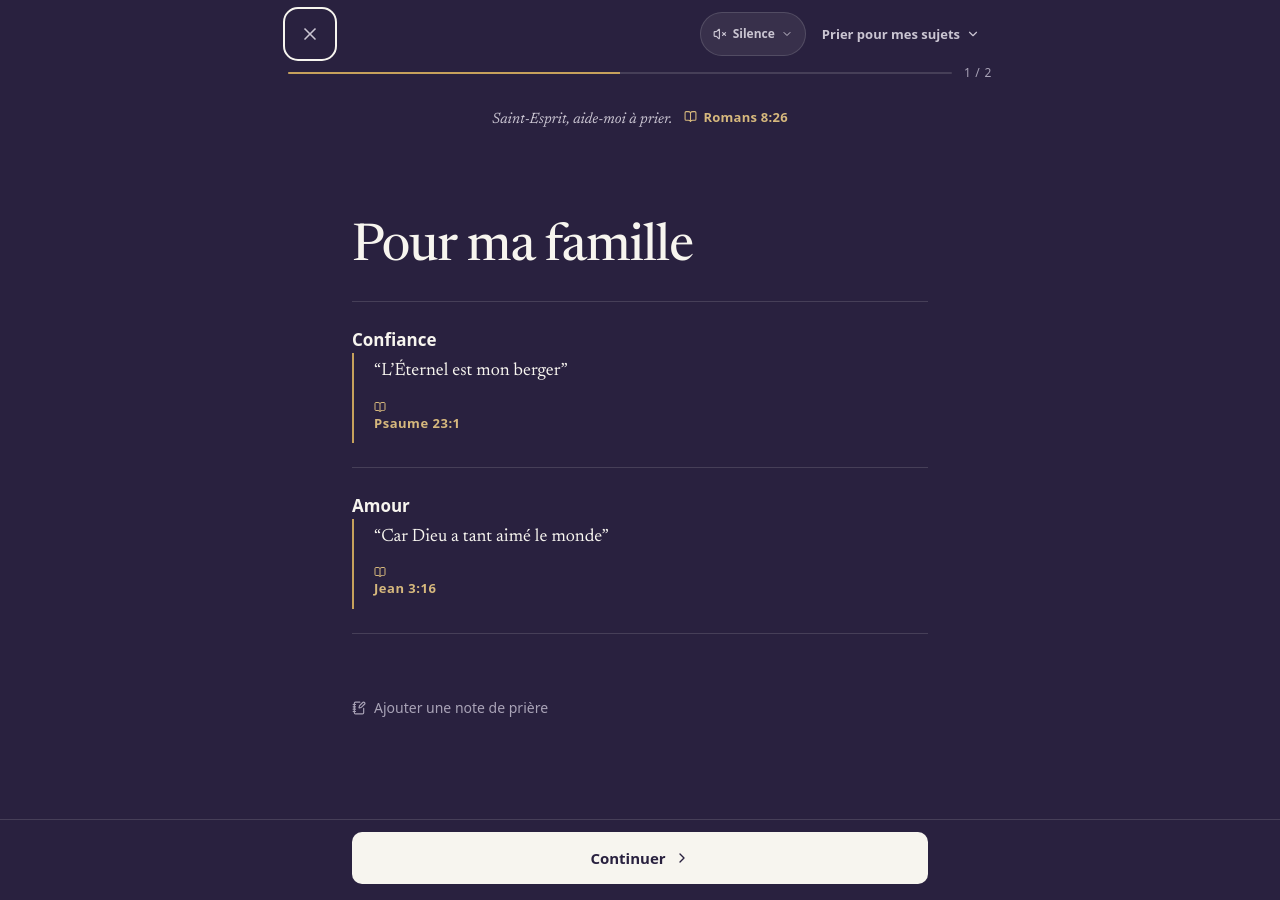
Test: PrayerSession — format change protects progress › after advancing, the new format resumes the requests — completed prayers are not repeated
Click the button "Continuer". click: (640, 858)
box: [352,832,928,884]
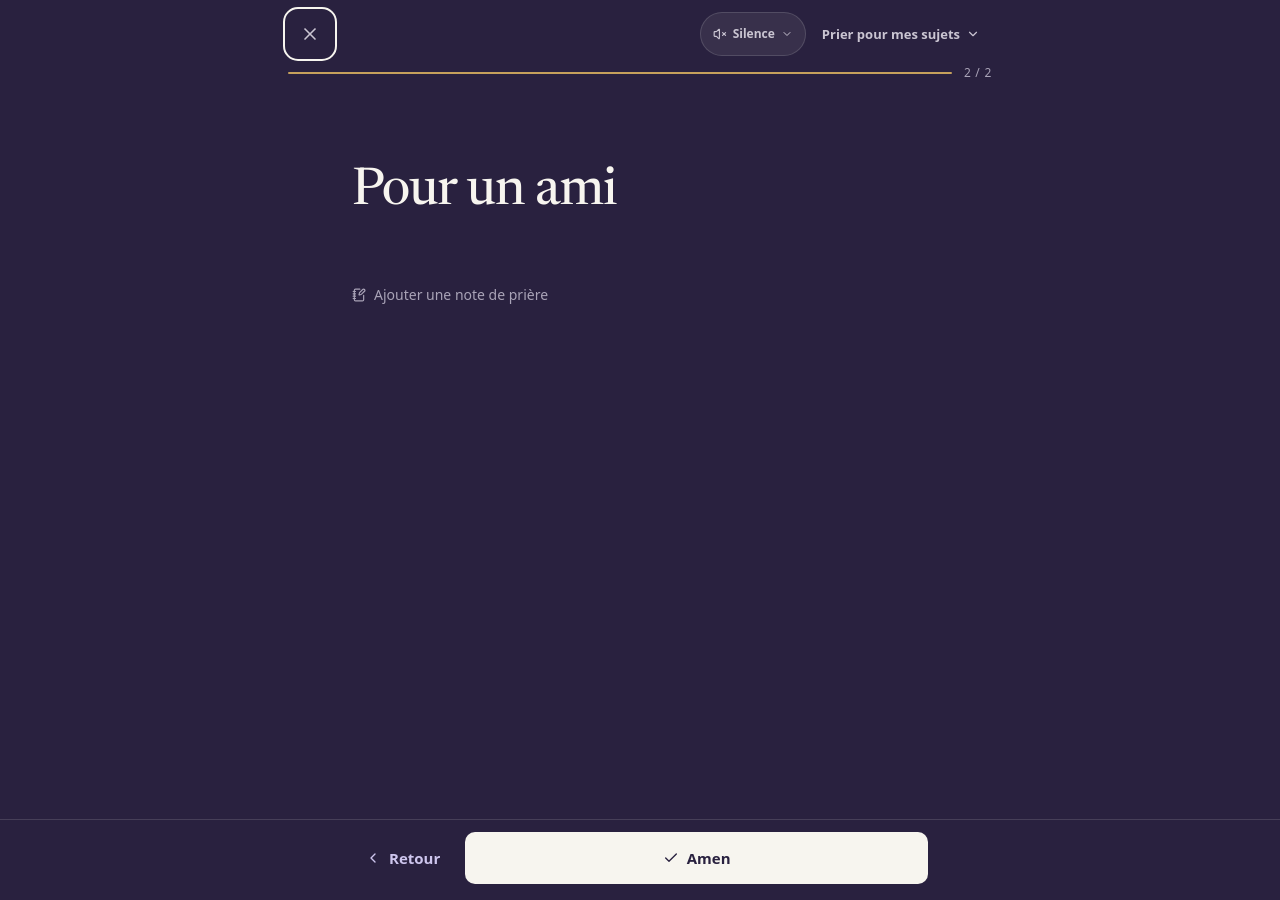
Click the button titled "Format de prière". click: (901, 34)
box: [810,12,992,56]
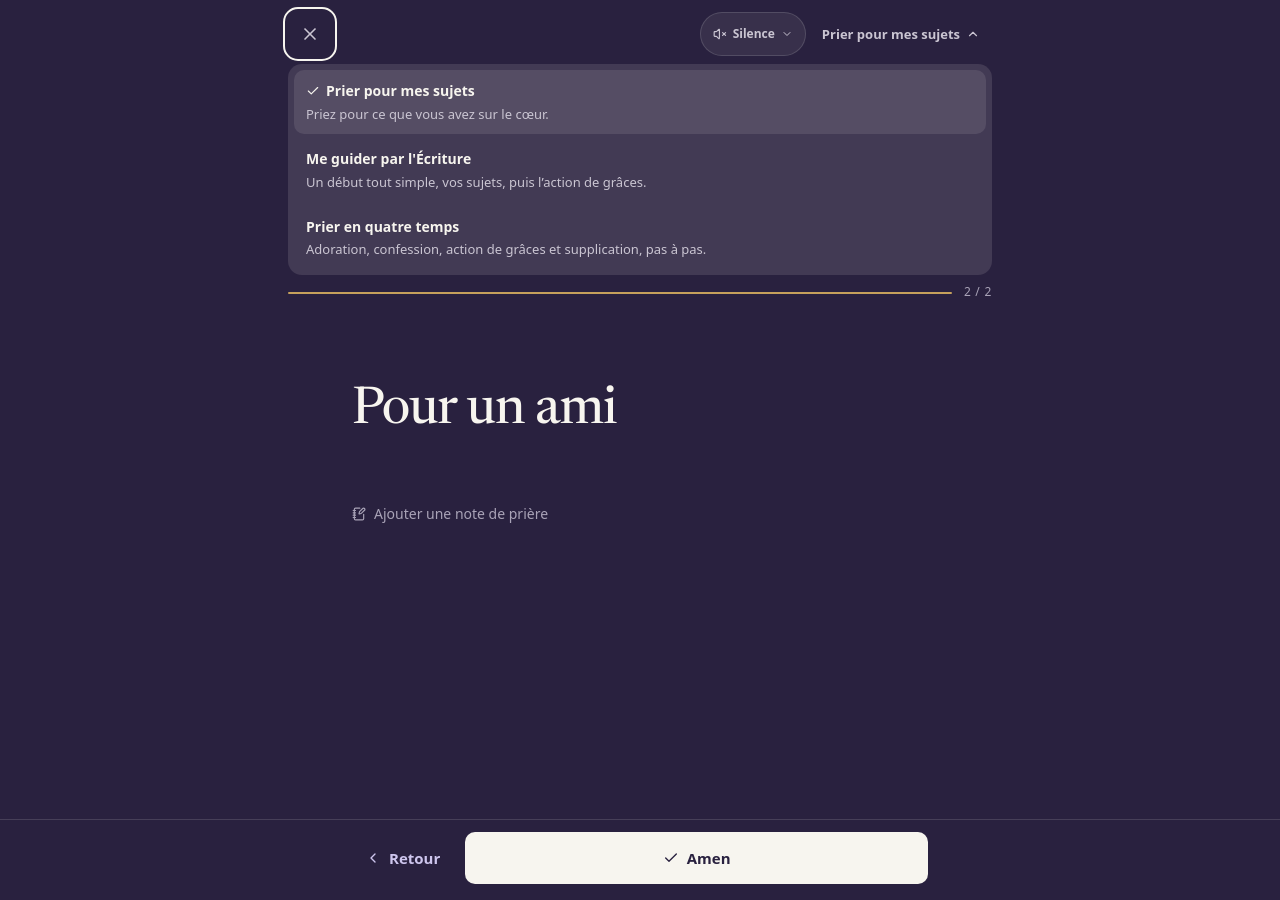
Click the text "Me guider par l'Écriture". click: (389, 158)
box: [306,149,471,168]
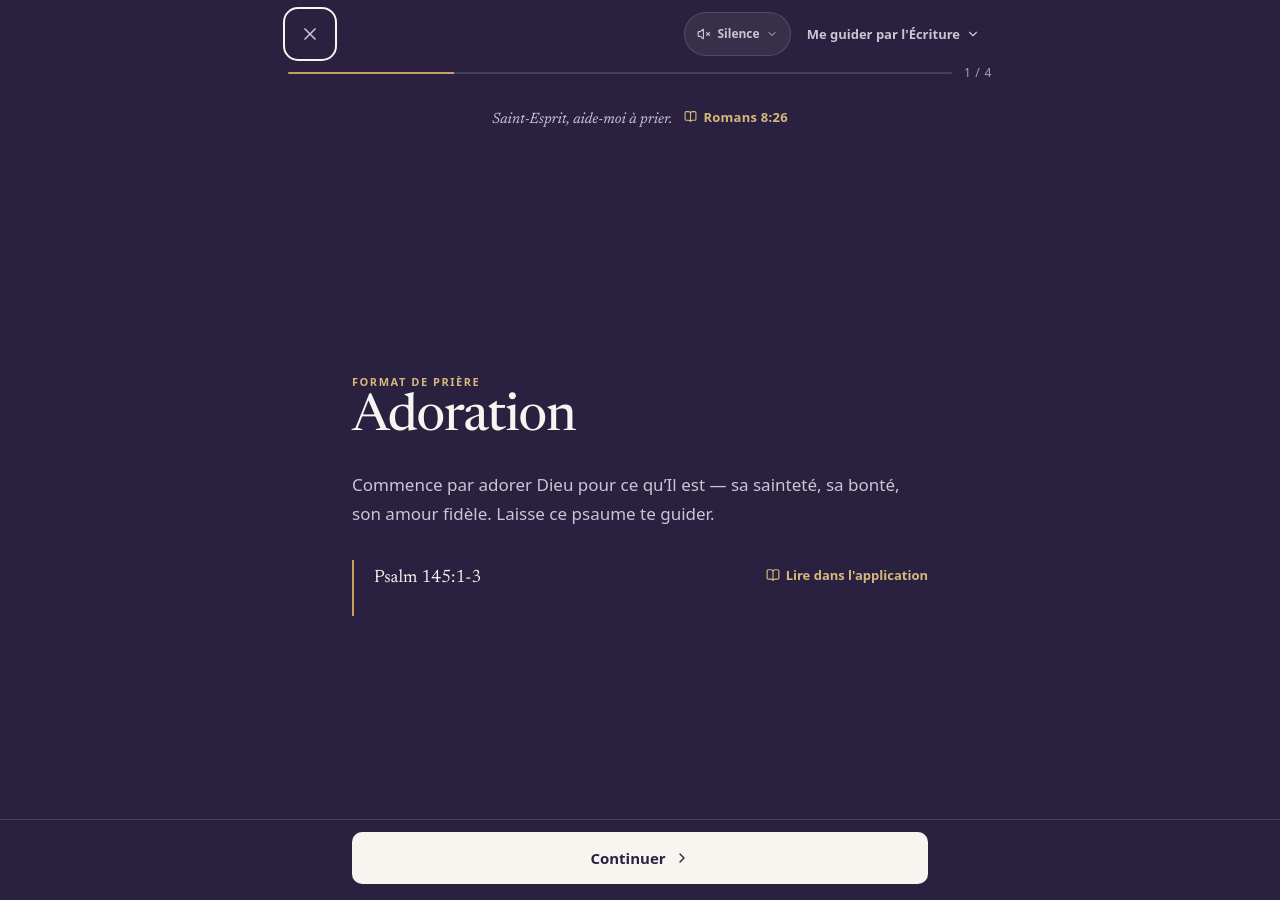
Expected: the heading "Adoration" is shown, [352,392,576,444]
Click the button "Continuer". click: (640, 858)
box: [352,832,928,884]
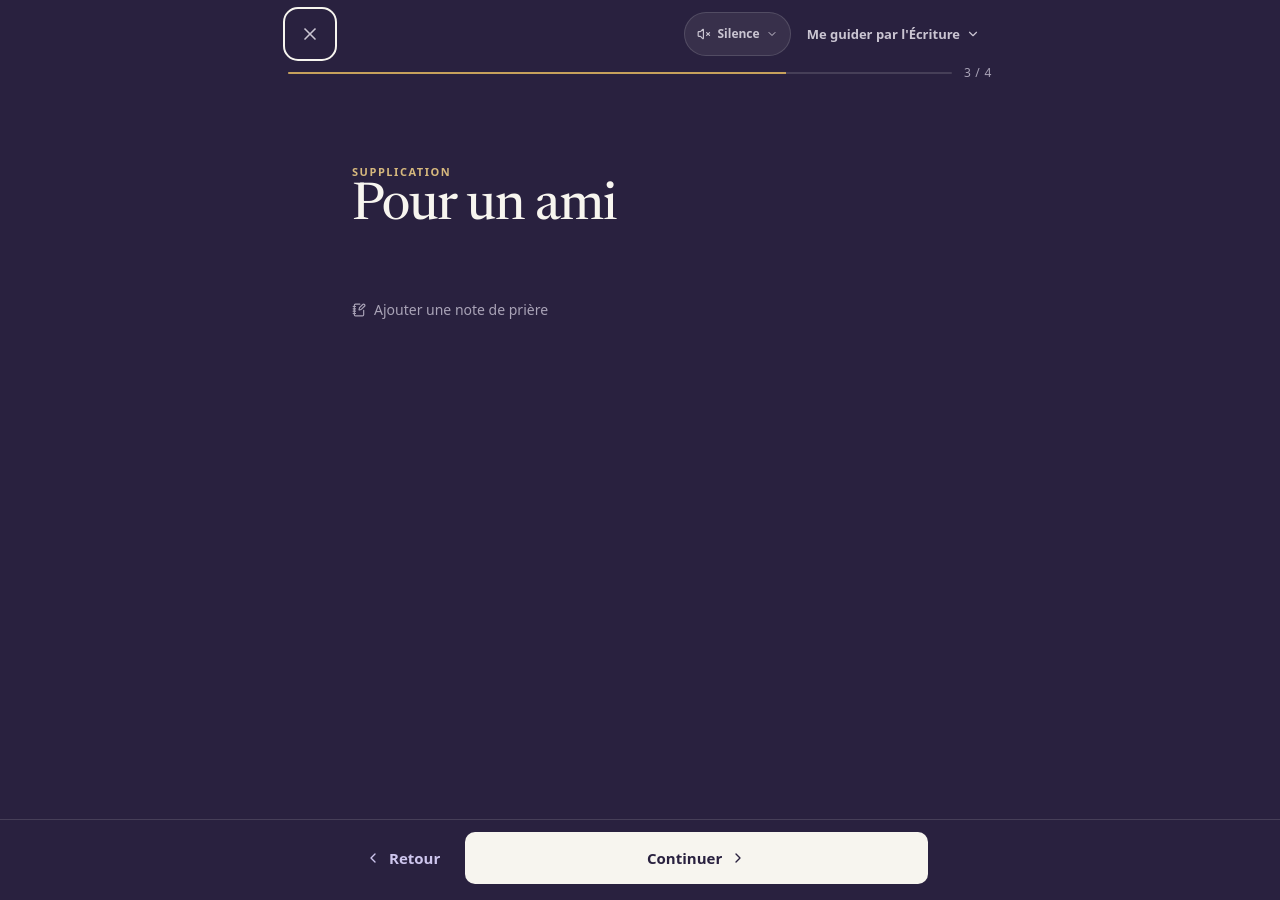
Expected: the heading "Pour ma famille" is not shown
Expected: the heading "Pour un ami" is shown, [352,181,616,233]
